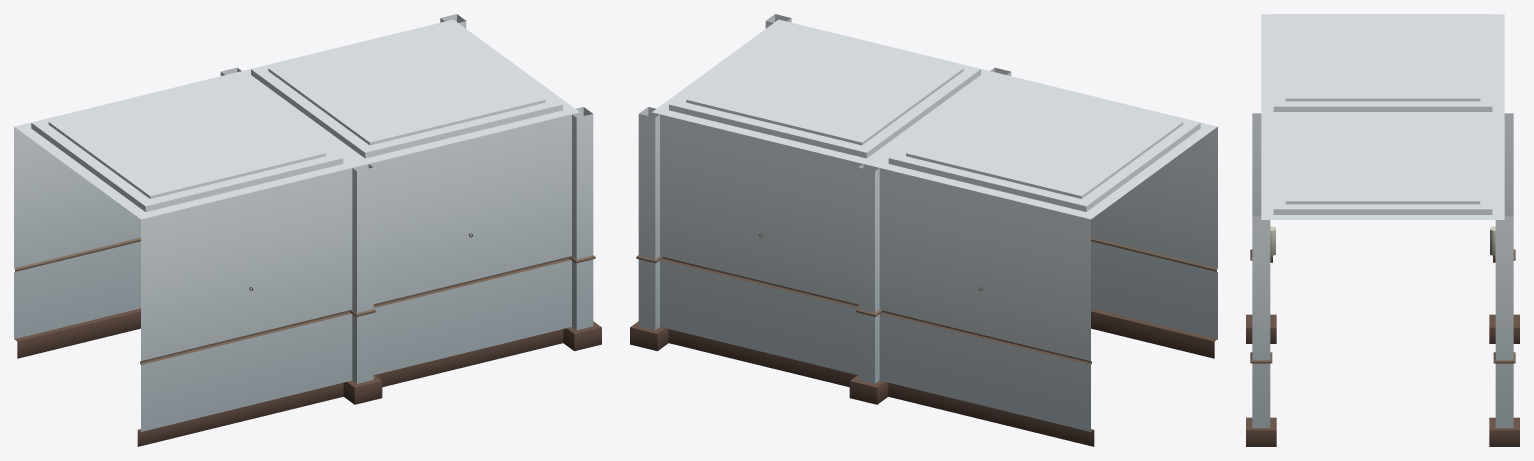
File: 6m_hallway.fbx
3 views of the same model, side by side, from view 1: azimuth 30°, elevation 25°; view 2: azimuth 150°, elevation 25°; view 3: azimuth 270°, elevation 25° (orthographic). The views are drawn at different scales.
Parts seen in each view (by area): view 1: 6mHallway; view 2: 6mHallway; view 3: 6mHallway.
Boxes of the visible parts, left/top/right/bottom form: 6mHallway: left=14, top=14, right=601, bottom=446; 6mHallway: left=630, top=14, right=1217, bottom=446; 6mHallway: left=1246, top=14, right=1519, bottom=446.
Size of the model in its own units: 619 by 311 by 338.
